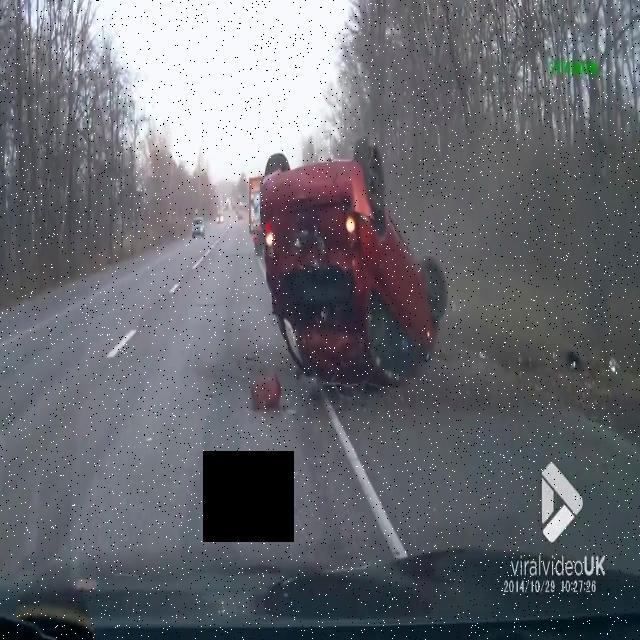severe: (248, 138, 452, 400)
